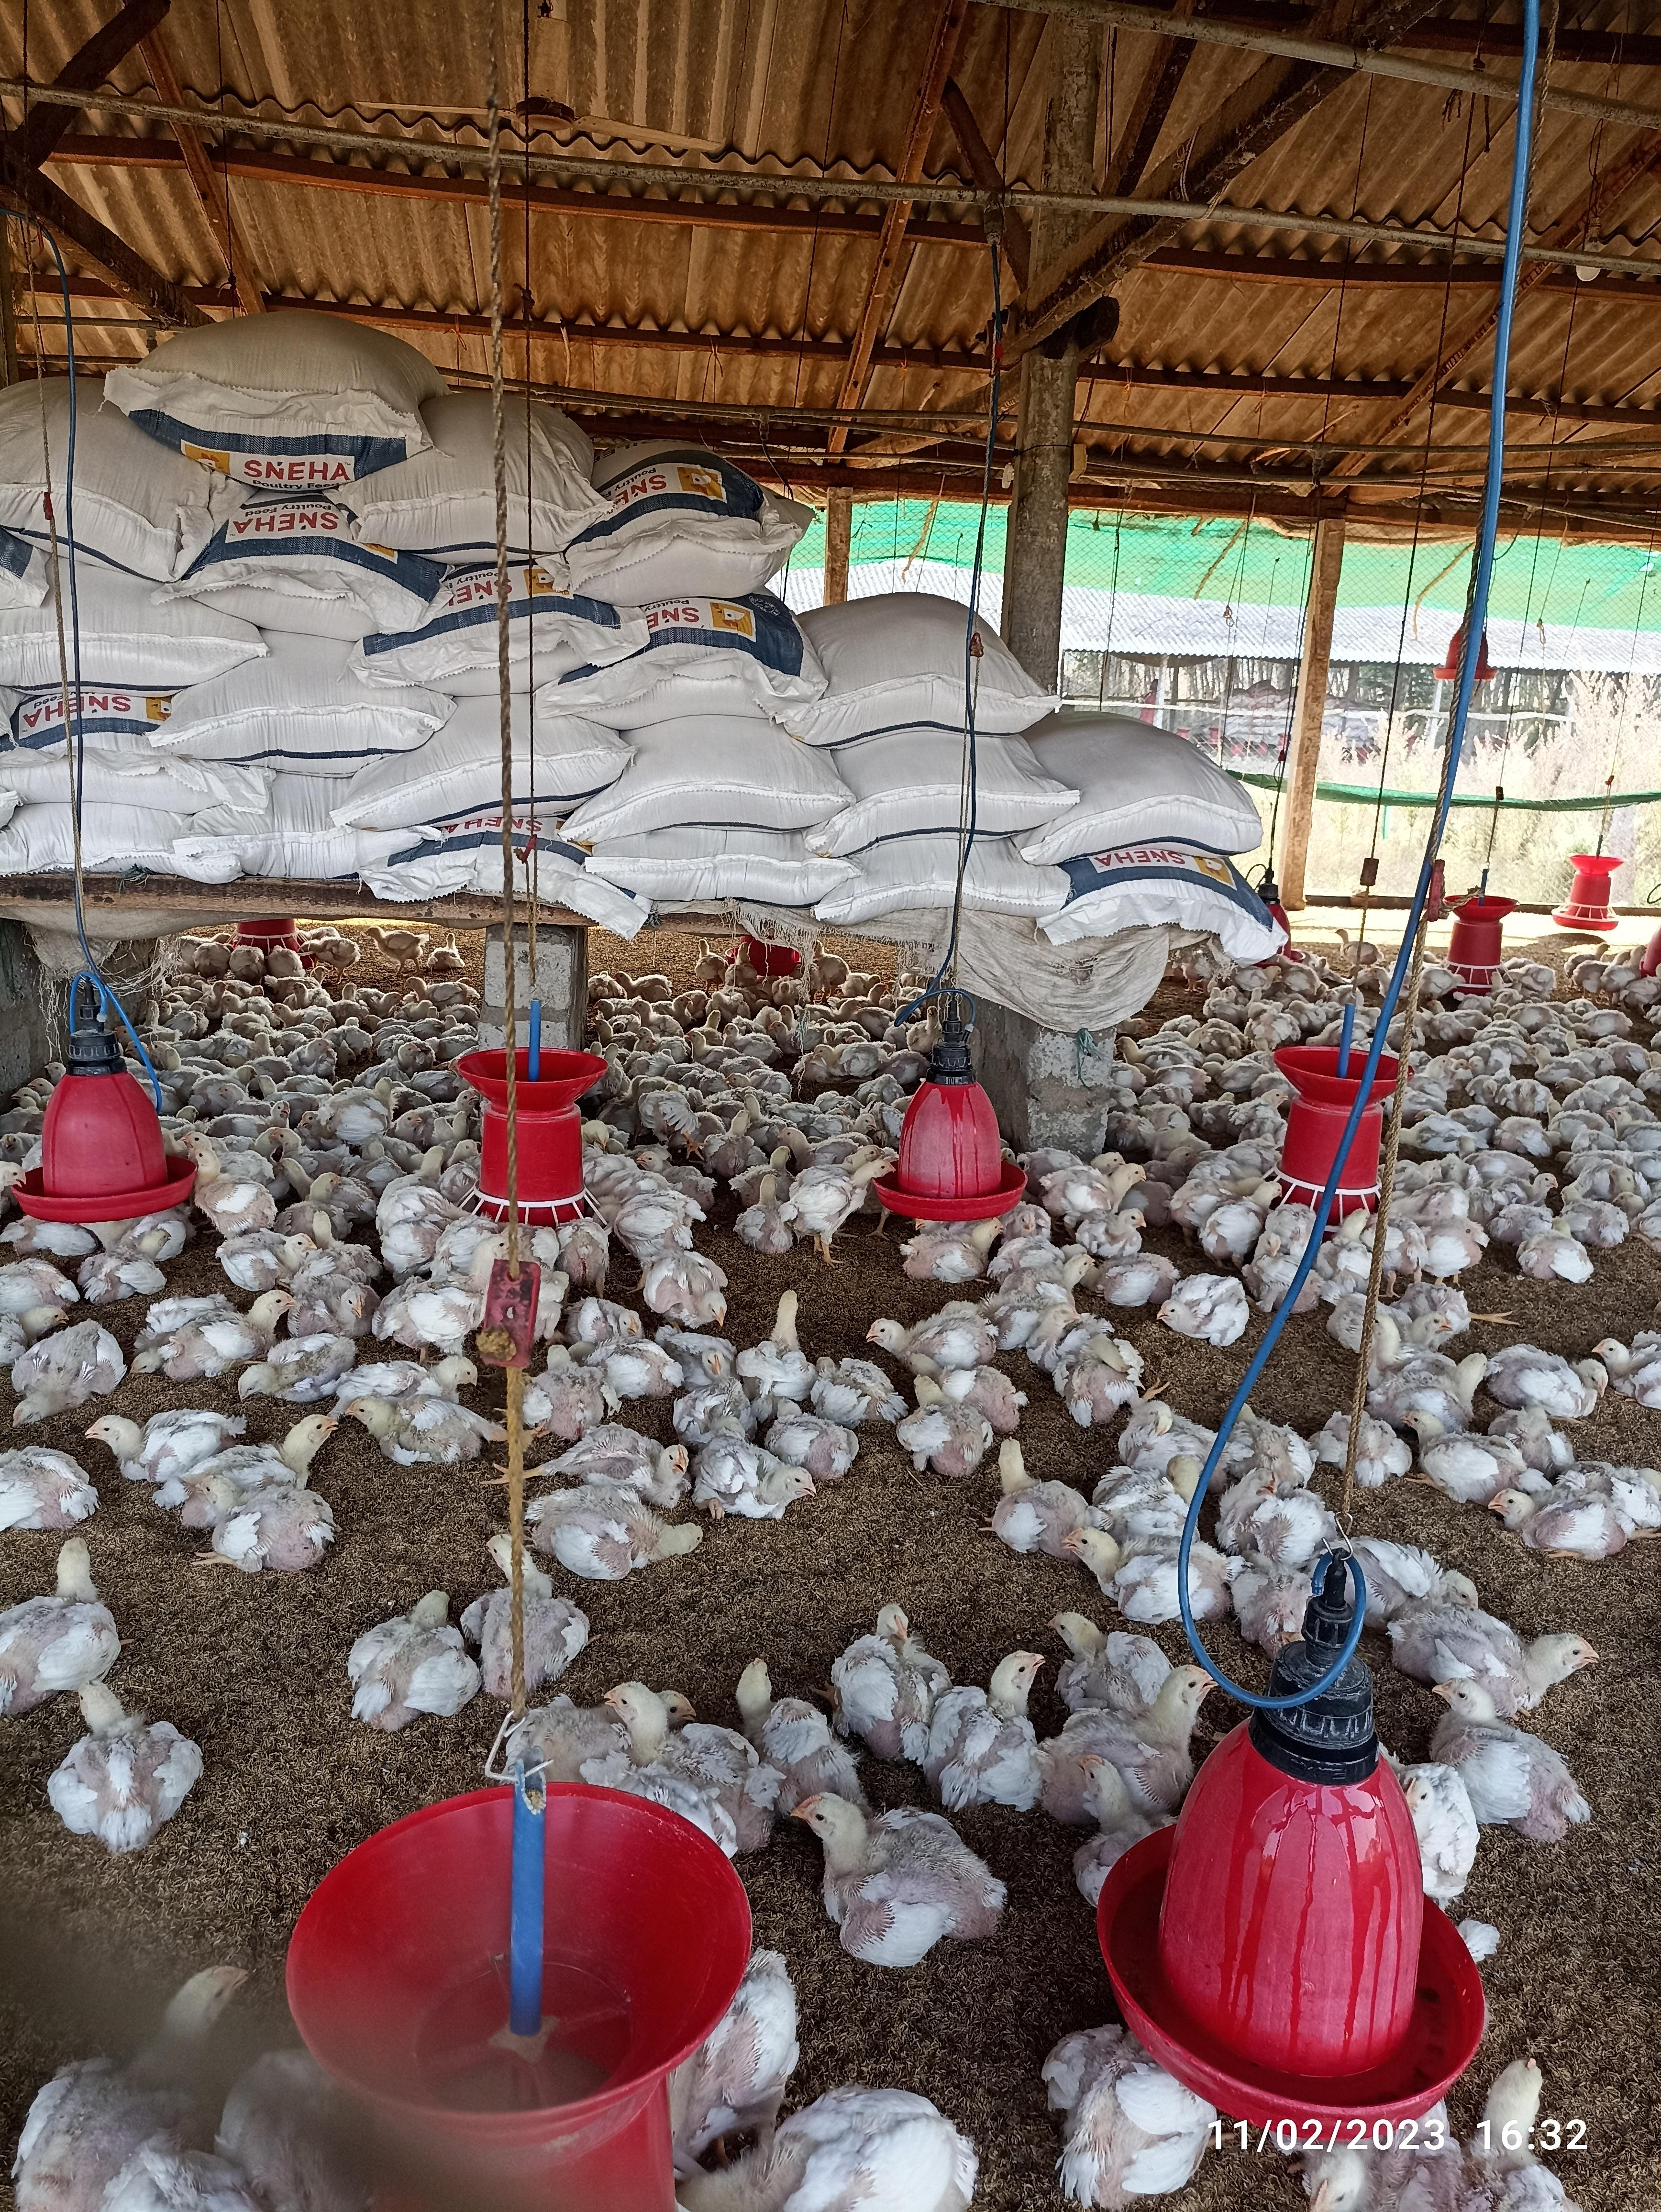Pollos: (785, 1790, 1017, 1959), (49, 1666, 208, 1851), (1429, 1680, 1588, 1851), (598, 1676, 775, 1814), (1408, 1608, 1600, 1724), (930, 1645, 1057, 1797), (2, 1533, 120, 1696), (359, 1587, 482, 1736), (342, 1366, 515, 1467), (525, 1485, 710, 1579), (140, 1287, 305, 1376), (993, 1427, 1090, 1558), (1483, 1467, 1635, 1547), (82, 1403, 225, 1483), (743, 1282, 818, 1396), (865, 1305, 1007, 1362), (1155, 1265, 1244, 1342)
